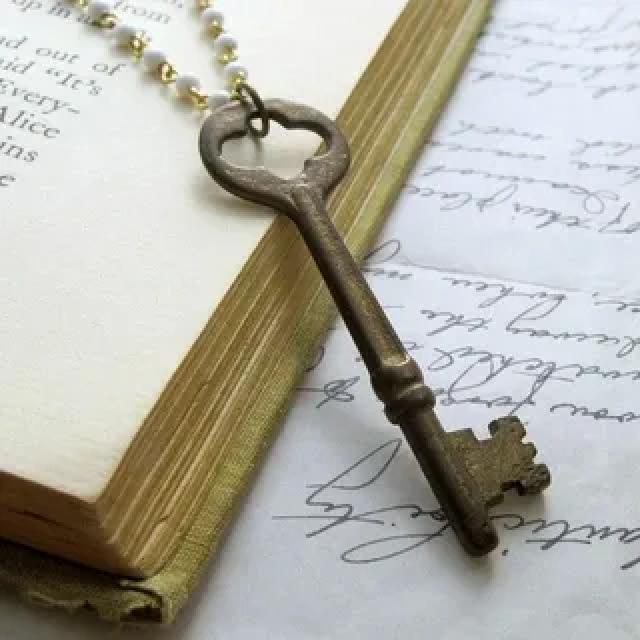key: (169, 64, 565, 548)
